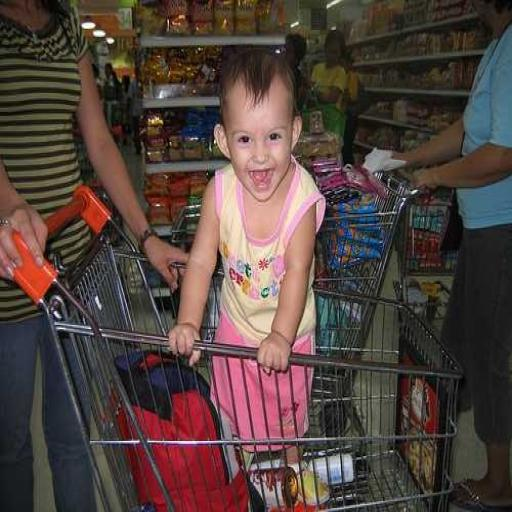shopping_cart: (1, 180, 467, 512), (168, 164, 420, 483), (396, 180, 461, 330)
